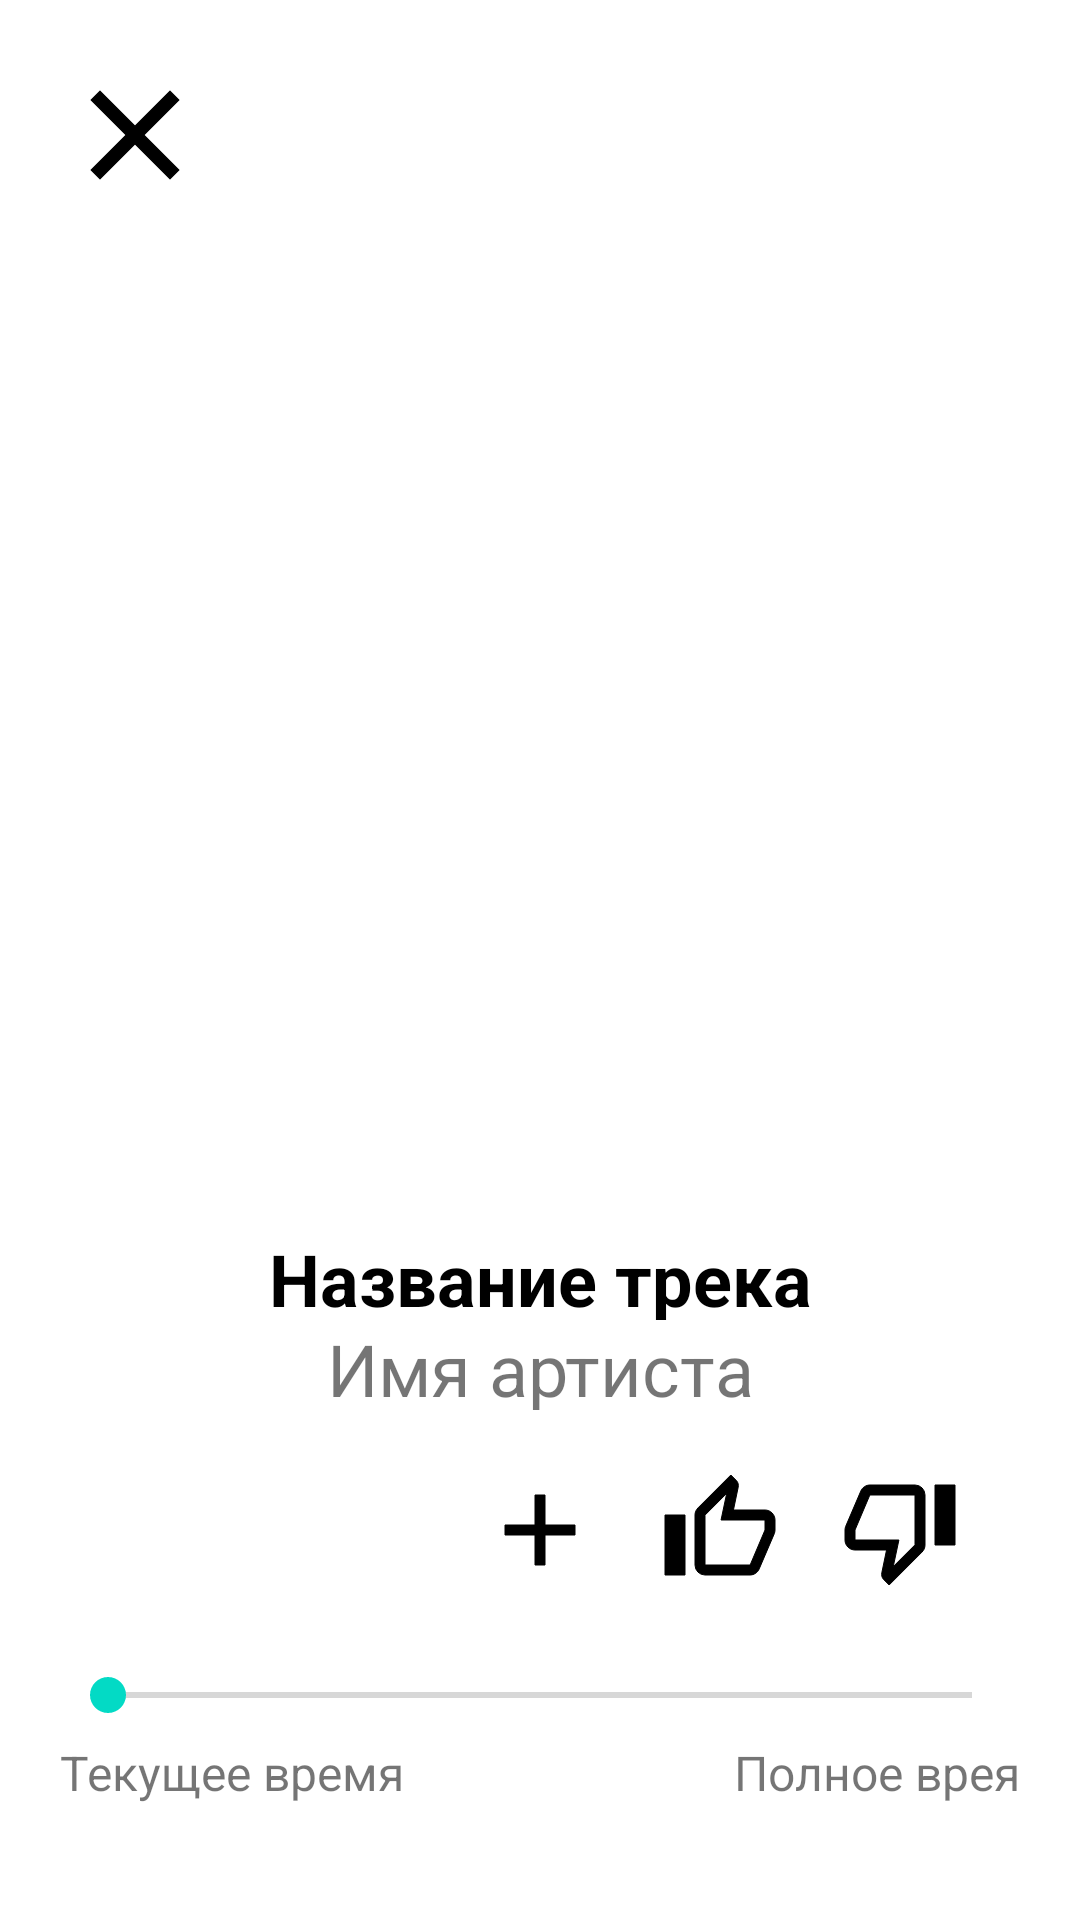

Where icons sit on this 1080x1920 app screen, as bbox=[x1, y1, x2, y2]:
Add/Remove Button: bbox=[504, 1494, 576, 1566]
Close Button: bbox=[90, 90, 180, 180]
Dislike Button: bbox=[844, 1484, 956, 1585]
Like Button: bbox=[664, 1475, 776, 1576]
